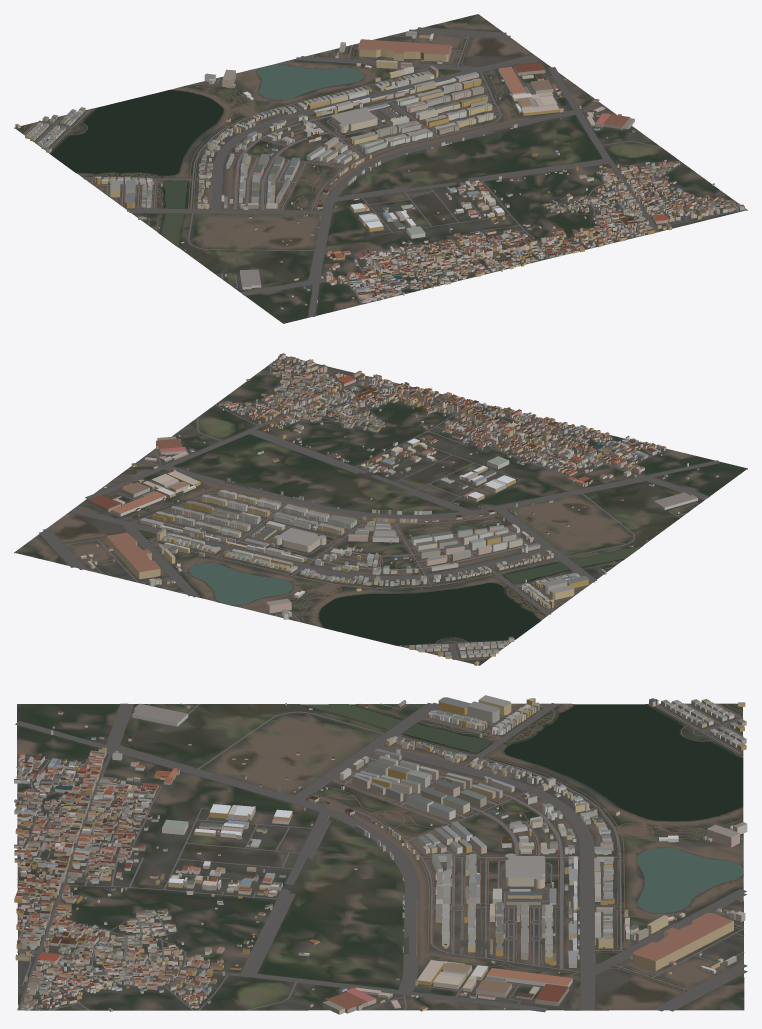
3 views of the same model, one above another, from view 1: azimuth 30°, elevation 25°; view 2: azimuth 150°, elevation 25°; view 3: azimuth 270°, elevation 25° (orthographic). The views are drawn at different scales.
Visible parts, largest first — view 1: ground, buildings, roads, water; view 2: ground, buildings, roads, water; view 3: ground, buildings, roads, water.
Boxes of the visible parts, left/top/right/bottom form: ground: left=14, top=14, right=747, bottom=323; buildings: left=15, top=31, right=745, bottom=309; roads: left=20, top=27, right=747, bottom=316; water: left=51, top=51, right=364, bottom=246; ground: left=14, top=357, right=747, bottom=665; buildings: left=80, top=353, right=718, bottom=665; roads: left=39, top=356, right=720, bottom=663; water: left=152, top=546, right=641, bottom=645; ground: left=17, top=703, right=744, bottom=1010; buildings: left=14, top=695, right=747, bottom=1014; roads: left=15, top=703, right=747, bottom=1012; water: left=302, top=704, right=743, bottom=913.
Bounding box in the file's own units: 1428 × 26.8 × 1417.
